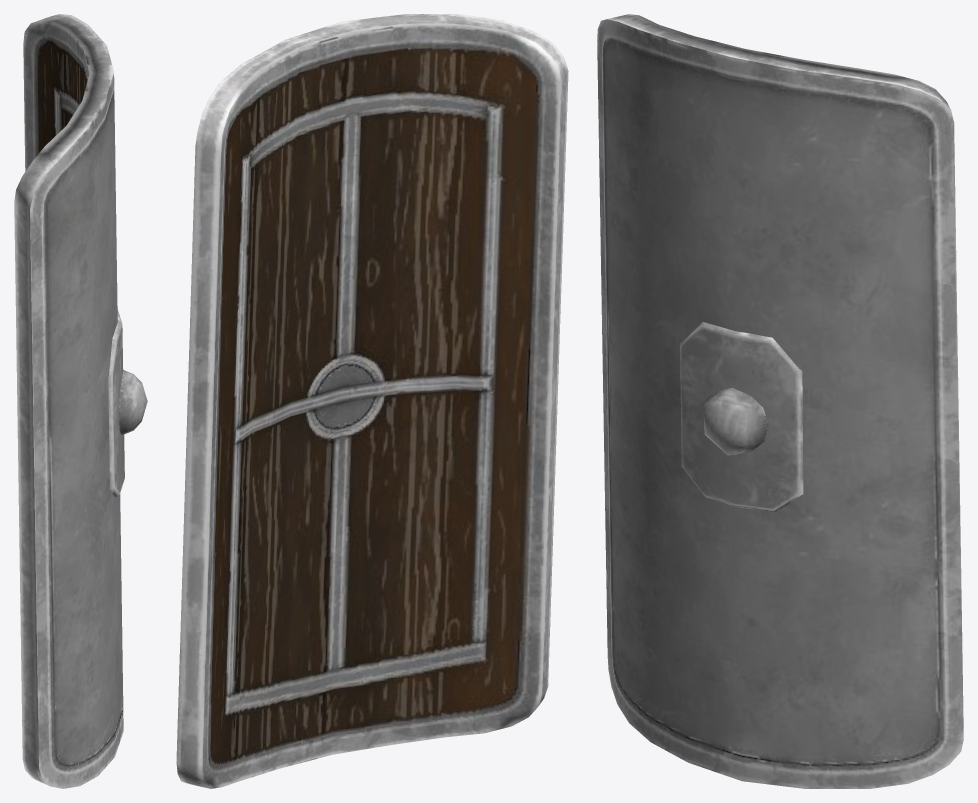
Rendered from shield-base.glb.
3 views of the same model, side by side, from view 1: azimuth 30°, elevation 25°; view 2: azimuth 150°, elevation 25°; view 3: azimuth 270°, elevation 25° (orthographic). The views are drawn at different scales.
Size of the model in its own units: 0.4733 by 1.5 by 0.6979.
Materials: 1 (1 with a texture image).
